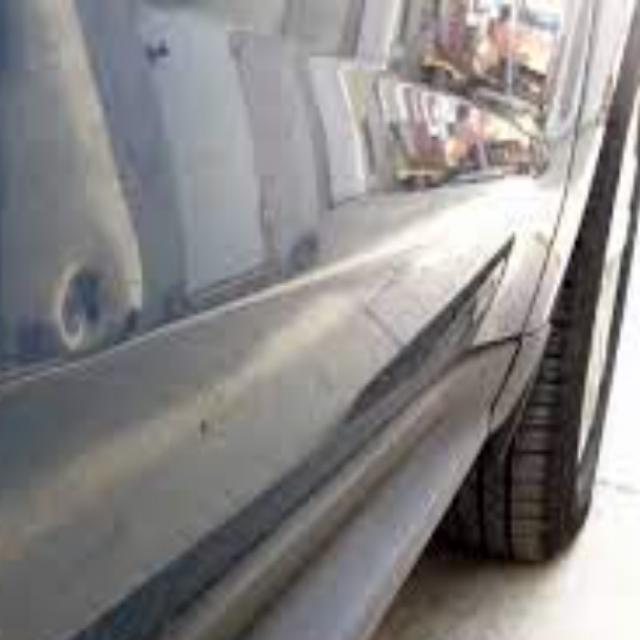dents: (41, 244, 167, 358)
